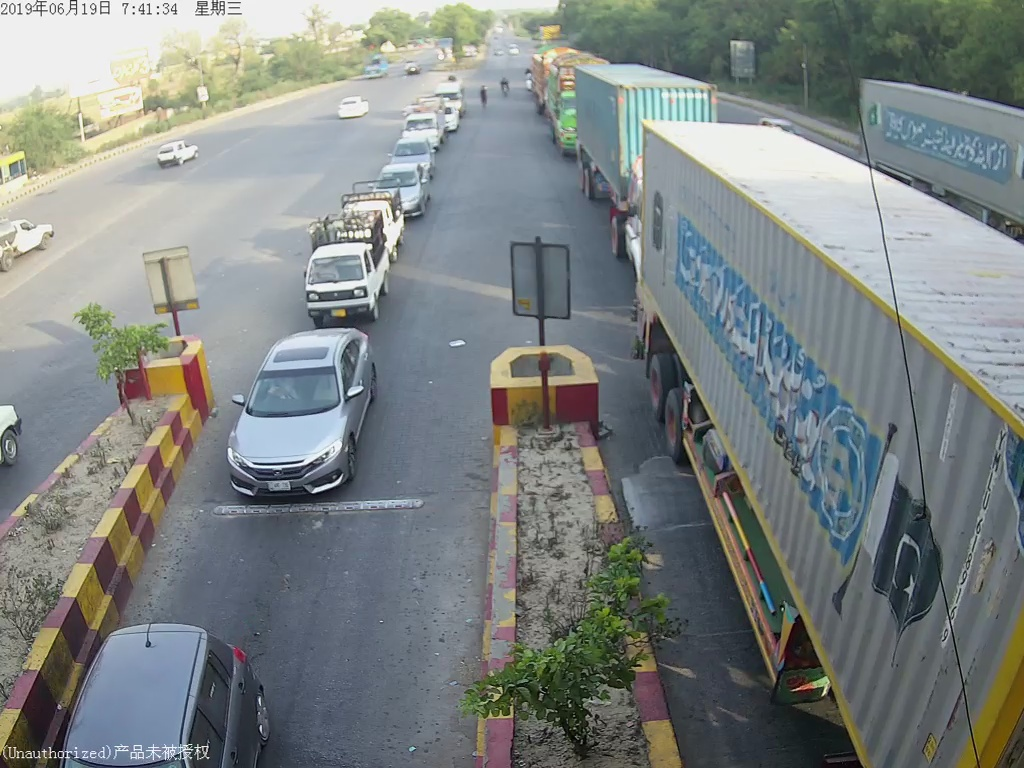Cat-1: (226, 331, 390, 503), (292, 217, 402, 324)
